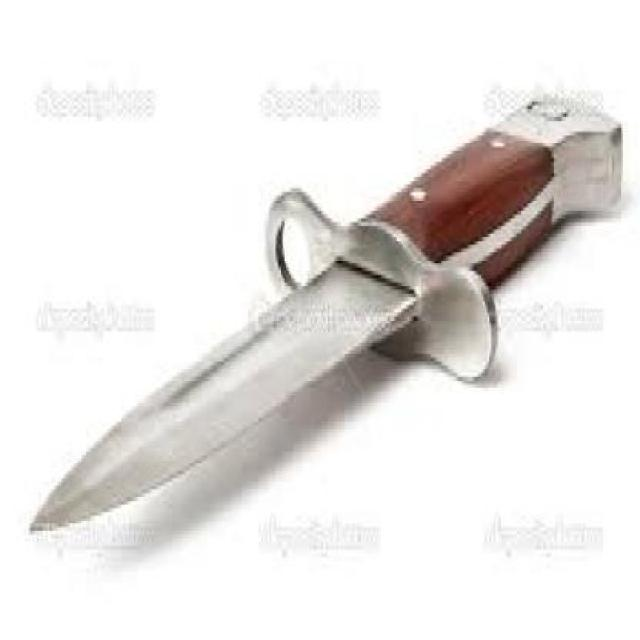weapon: (16, 76, 630, 549)
